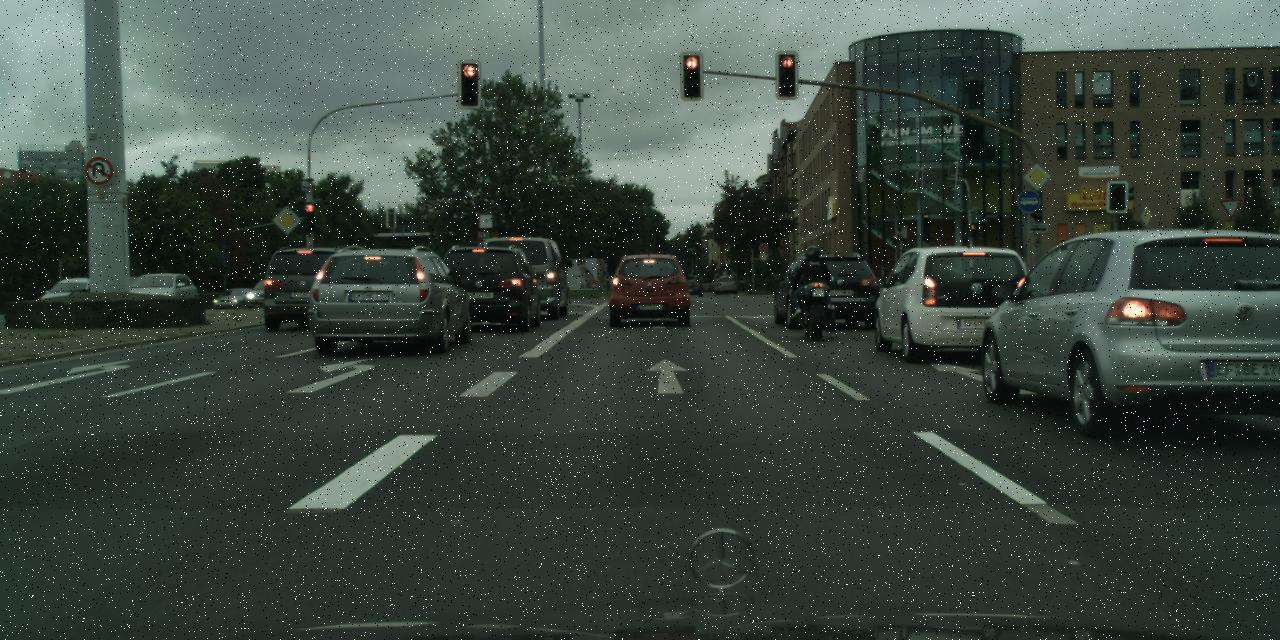ped: (798, 246, 830, 326)
